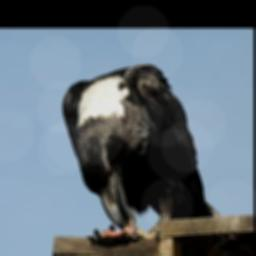Crow: (60, 58, 221, 244)
